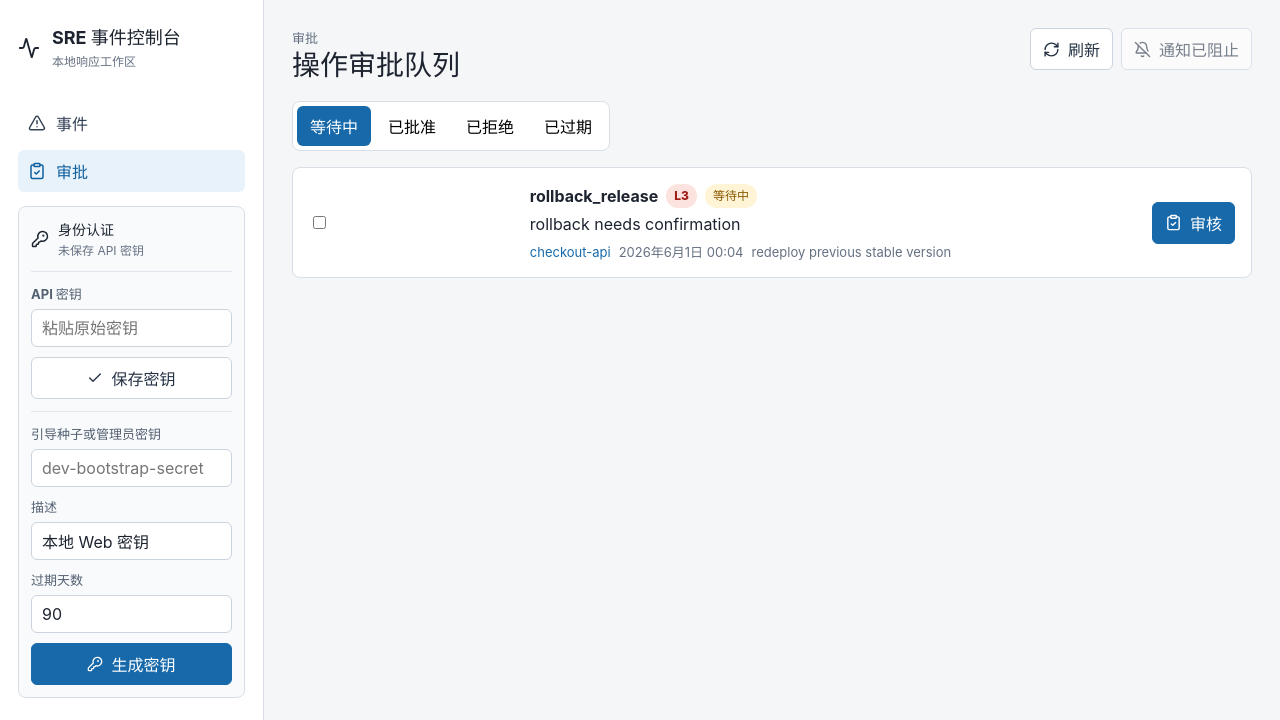
it: disables batch approval when an L3 approval is selected
What coordinates should you click on to do the following:
click the checkbox
I would click on:
 (320, 223)
Its box is [313, 216, 326, 229].
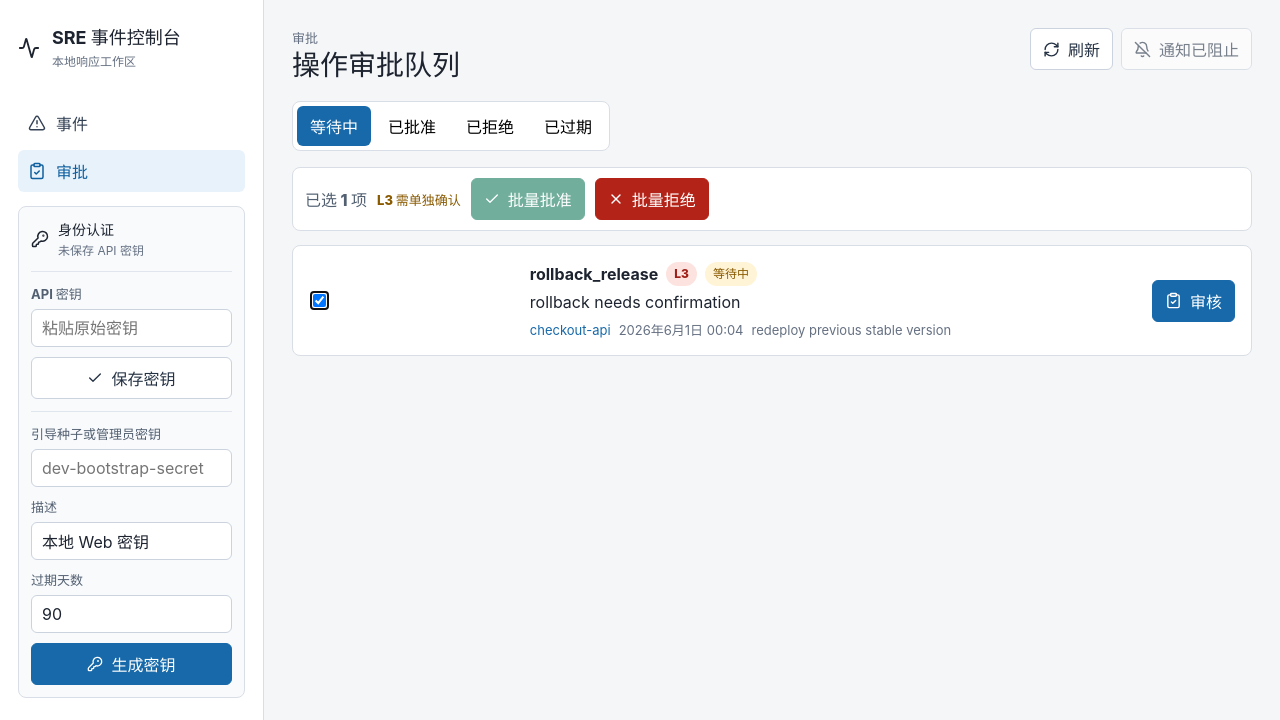
expect the text "L3 需单独确认" is shown: met, box [377, 190, 461, 209]
expect the button "批量批准" is disabled: met, box [471, 178, 585, 220]
expect the button "批量拒绝" is enabled: met, box [595, 178, 709, 220]
